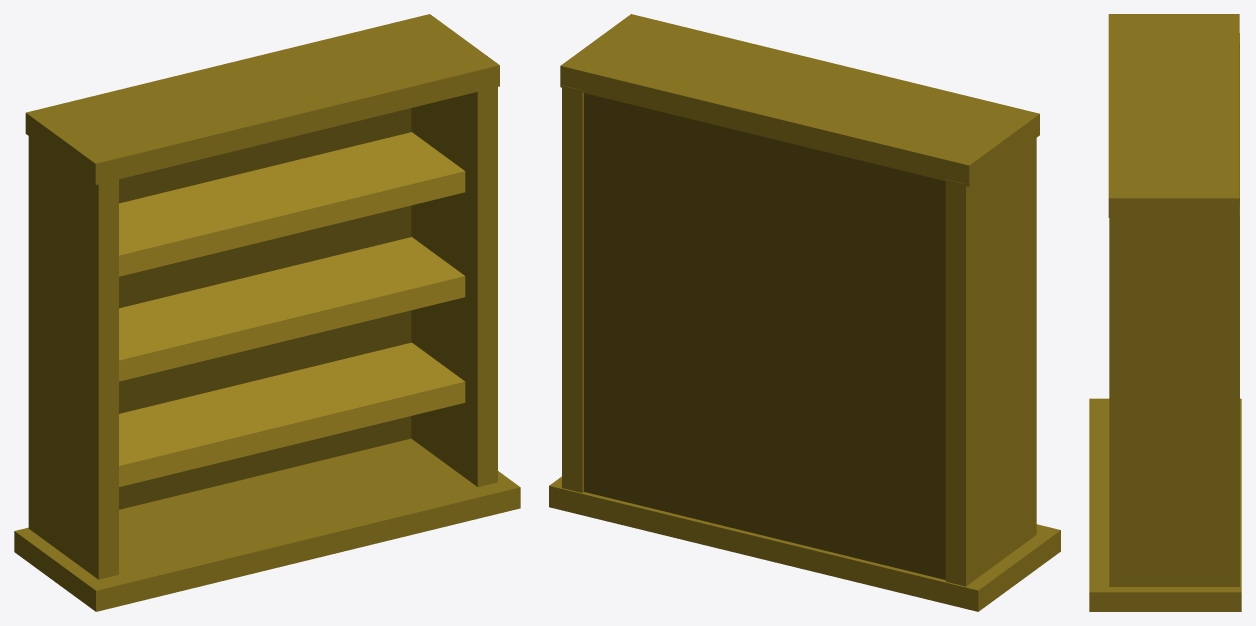
Rendered from Bookcase.fbx.
3 views of the same model, side by side, from view 1: azimuth 30°, elevation 25°; view 2: azimuth 150°, elevation 25°; view 3: azimuth 270°, elevation 25° (orthographic). The views are drawn at different scales.
Visible parts, largest first — view 1: polySurface1; view 2: polySurface1; view 3: polySurface1.
Boxes of the visible parts, x1,y1,x2,y2 form: polySurface1: (14,14,520,611); polySurface1: (549,14,1060,611); polySurface1: (1089,14,1241,611).
Size of the model in its own units: 18.38 by 18.12 by 6.12.
